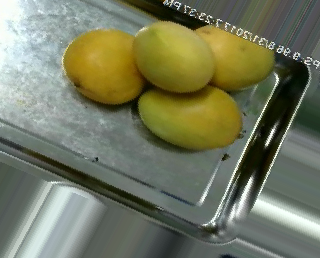Mango: (130, 16, 222, 101), (132, 83, 241, 152), (65, 28, 150, 101), (179, 27, 278, 87)
